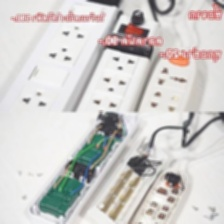three_eye_plug: (0, 0, 123, 112), (25, 111, 140, 224), (73, 7, 165, 113), (78, 132, 168, 224), (134, 40, 200, 113), (127, 158, 190, 224)
